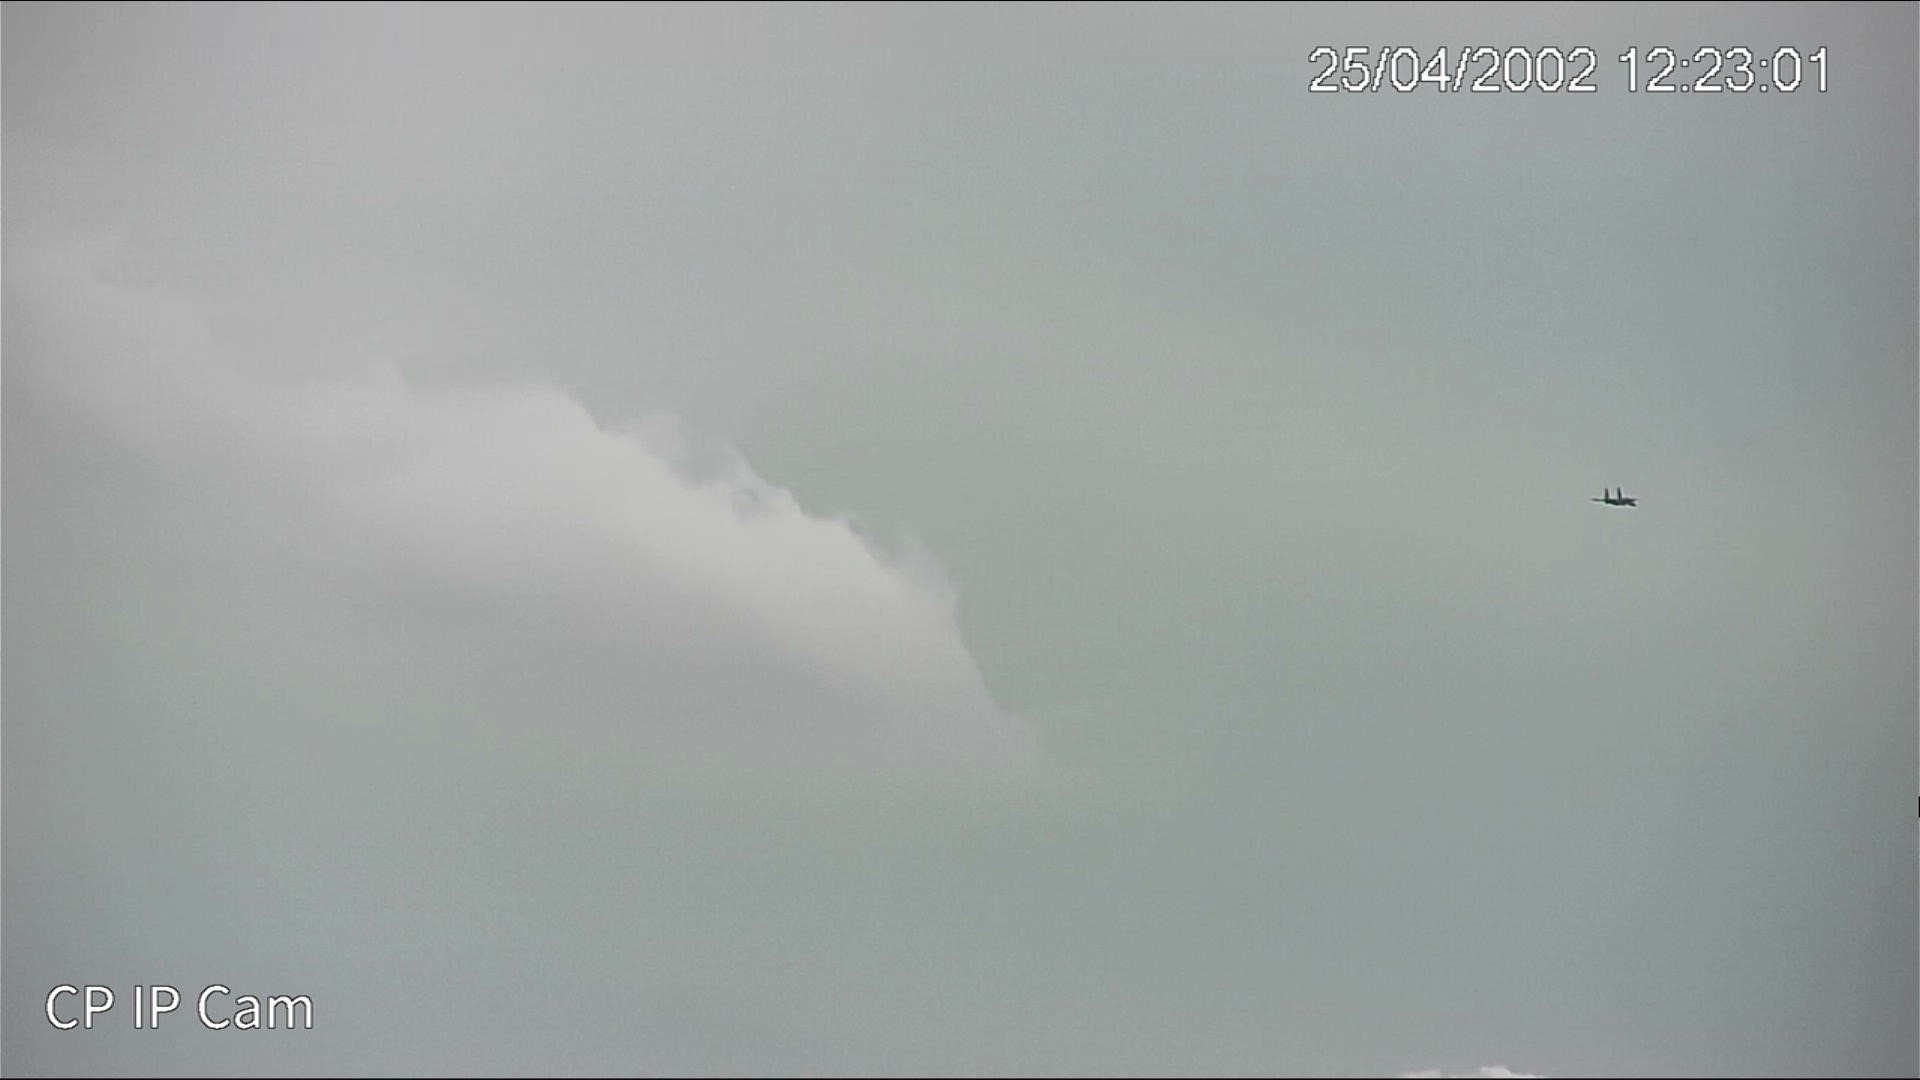SU_30: (1592, 483, 1640, 512)
